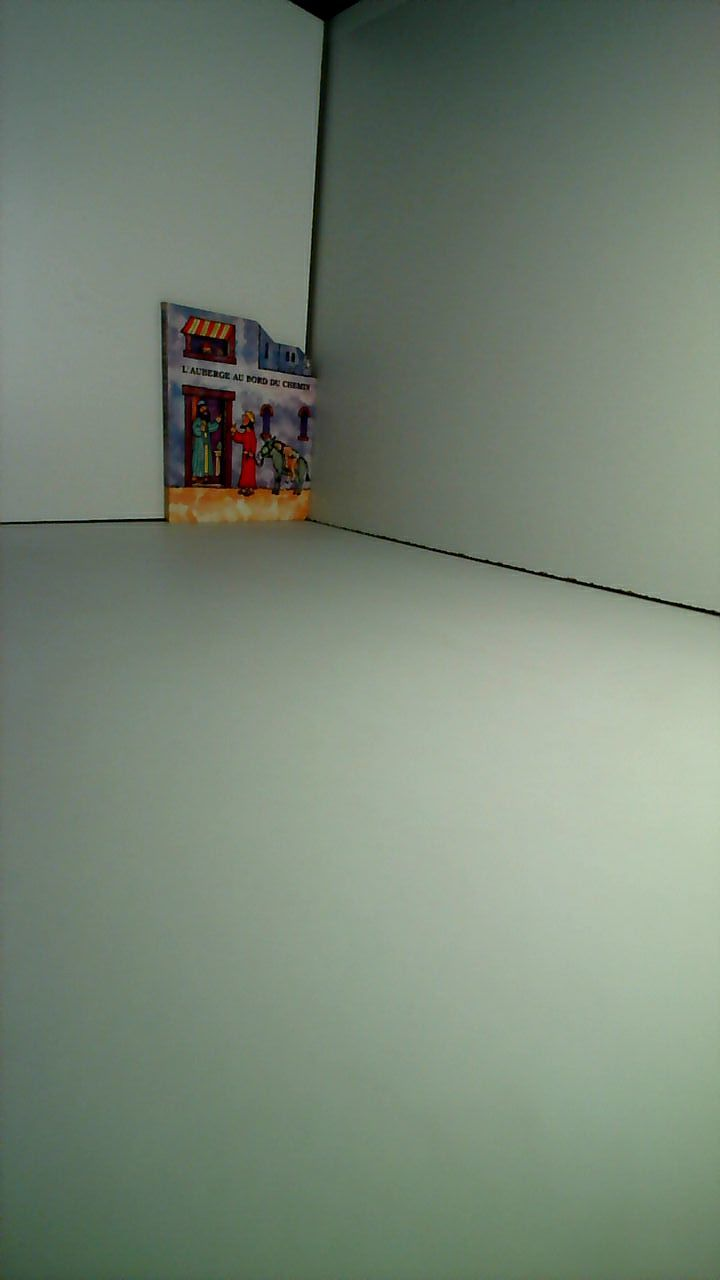book: (136, 281, 341, 554)
